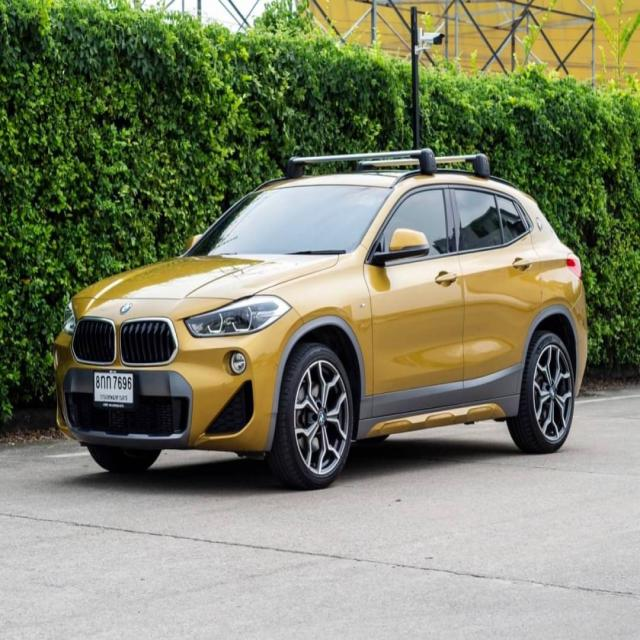license_plate: (86, 358, 142, 414)
